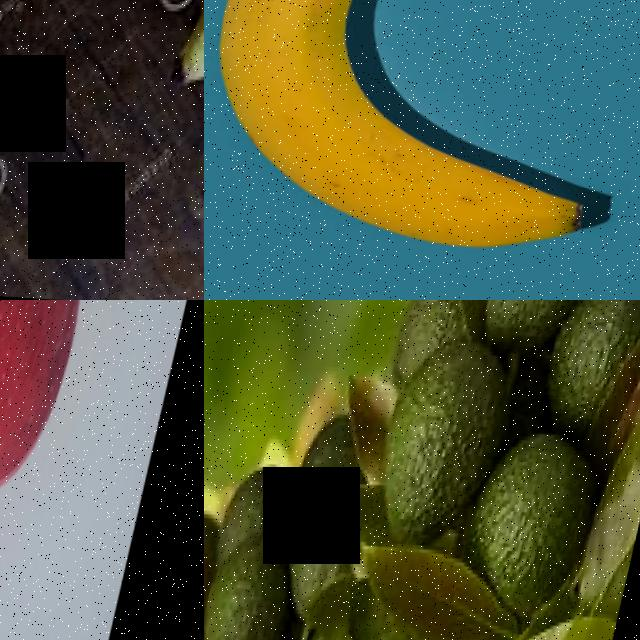apple: (0, 300, 143, 567)
avocado: (363, 337, 538, 564), (461, 439, 623, 632), (530, 300, 640, 480), (380, 300, 491, 409), (207, 543, 316, 640), (219, 463, 313, 574), (478, 300, 621, 365)
banana: (204, 0, 640, 300)
